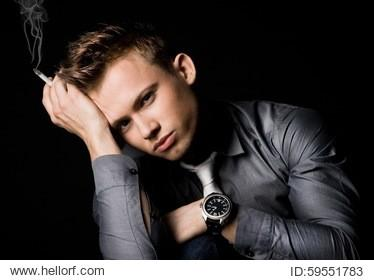Cigarette: (42, 22, 362, 260), (32, 68, 52, 86)
